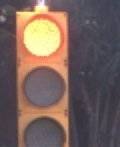Red: (11, 10, 86, 146)
